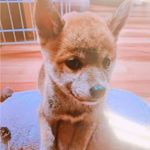puppy: (31, 1, 133, 150)
